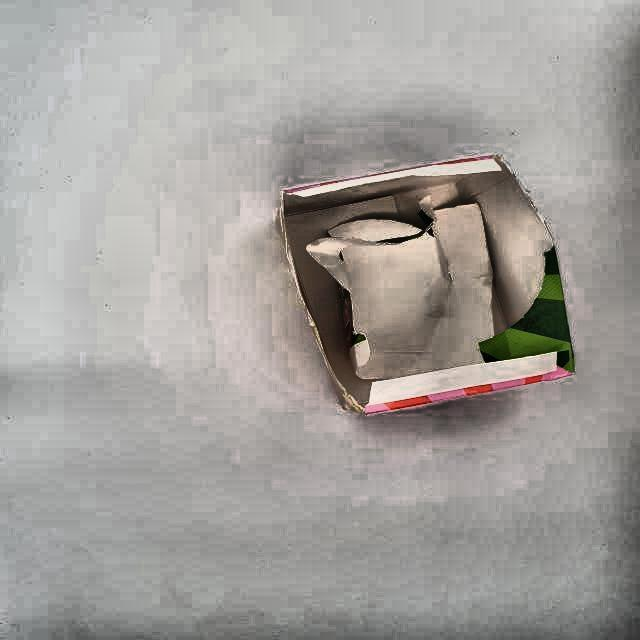cardboard: (282, 156, 574, 415)
